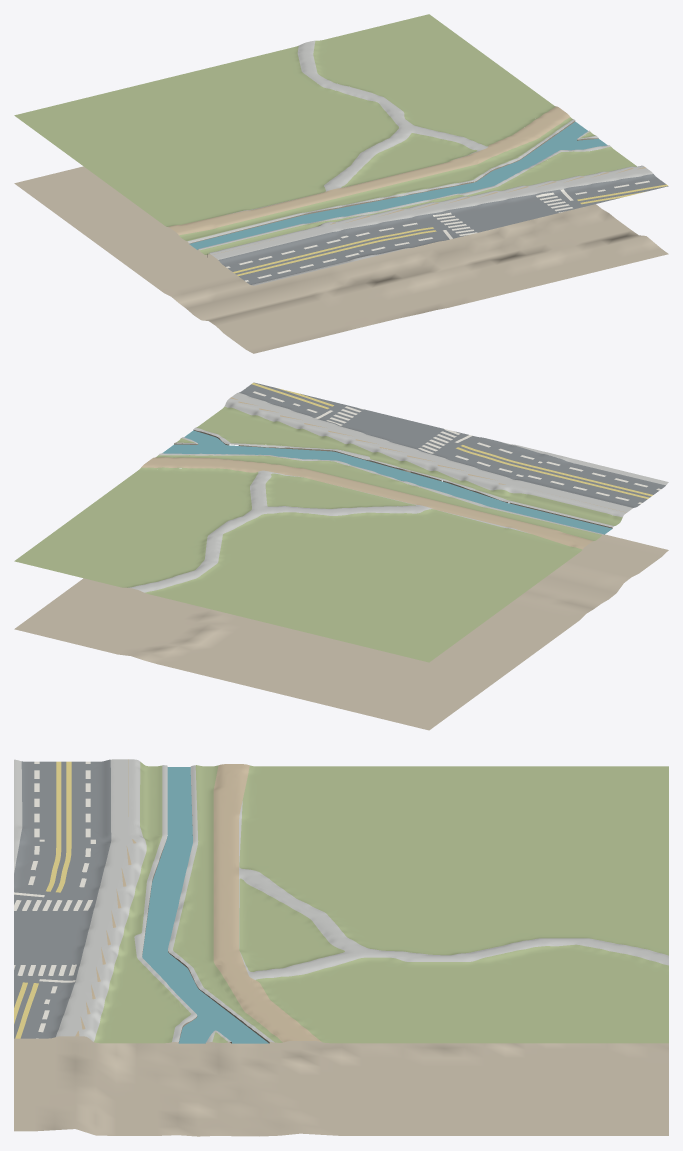
3 renders of one model, top to bottom at view 1: azimuth 30°, elevation 25°; view 2: azimuth 150°, elevation 25°; view 3: azimuth 270°, elevation 25°, orthographic. The views are drawn at different scales.
Visible parts, largest first — view 1: s_-5_0__grass, s_-5_0__soil, s_-5_0__asphalt, s_-5_0__stone_paving, s_-5_0__timber_deck, s_-5_0__water, s_-5_0__white_marking, s_-5_0__yellow_marking; view 2: s_-5_0__grass, s_-5_0__soil, s_-5_0__stone_paving, s_-5_0__asphalt, s_-5_0__timber_deck, s_-5_0__water, s_-5_0__white_marking, s_-5_0__yellow_marking, s_-5_0__shore_bank; view 3: s_-5_0__grass, s_-5_0__soil, s_-5_0__stone_paving, s_-5_0__asphalt, s_-5_0__water, s_-5_0__timber_deck, s_-5_0__white_marking, s_-5_0__yellow_marking.
Boxes of the visible parts, bbox=[...] form: s_-5_0__grass: bbox=[14, 14, 636, 254]; s_-5_0__soil: bbox=[14, 166, 668, 353]; s_-5_0__asphalt: bbox=[218, 174, 668, 284]; s_-5_0__stone_paving: bbox=[187, 40, 653, 285]; s_-5_0__timber_deck: bbox=[168, 106, 645, 254]; s_-5_0__water: bbox=[189, 121, 607, 249]; s_-5_0__white_marking: bbox=[226, 180, 649, 281]; s_-5_0__yellow_marking: bbox=[233, 184, 667, 275]; s_-5_0__grass: bbox=[14, 406, 622, 662]; s_-5_0__soil: bbox=[14, 513, 668, 730]; s_-5_0__stone_paving: bbox=[128, 392, 668, 592]; s_-5_0__asphalt: bbox=[239, 382, 665, 507]; s_-5_0__timber_deck: bbox=[141, 397, 626, 549]; s_-5_0__water: bbox=[162, 430, 612, 534]; s_-5_0__white_marking: bbox=[245, 388, 660, 504]; s_-5_0__yellow_marking: bbox=[251, 383, 652, 498]; s_-5_0__shore_bank: bbox=[174, 429, 612, 528]; s_-5_0__grass: bbox=[94, 762, 668, 1043]; s_-5_0__soil: bbox=[14, 883, 668, 1136]; s_-5_0__stone_paving: bbox=[14, 759, 668, 1042]; s_-5_0__asphalt: bbox=[14, 759, 111, 1038]; s_-5_0__water: bbox=[142, 767, 268, 1043]; s_-5_0__timber_deck: bbox=[75, 759, 321, 1042]; s_-5_0__white_marking: bbox=[14, 761, 95, 1038]; s_-5_0__yellow_marking: bbox=[14, 761, 71, 1038].
Bounding box in the file's own units: 128 × 21.64 × 128.
